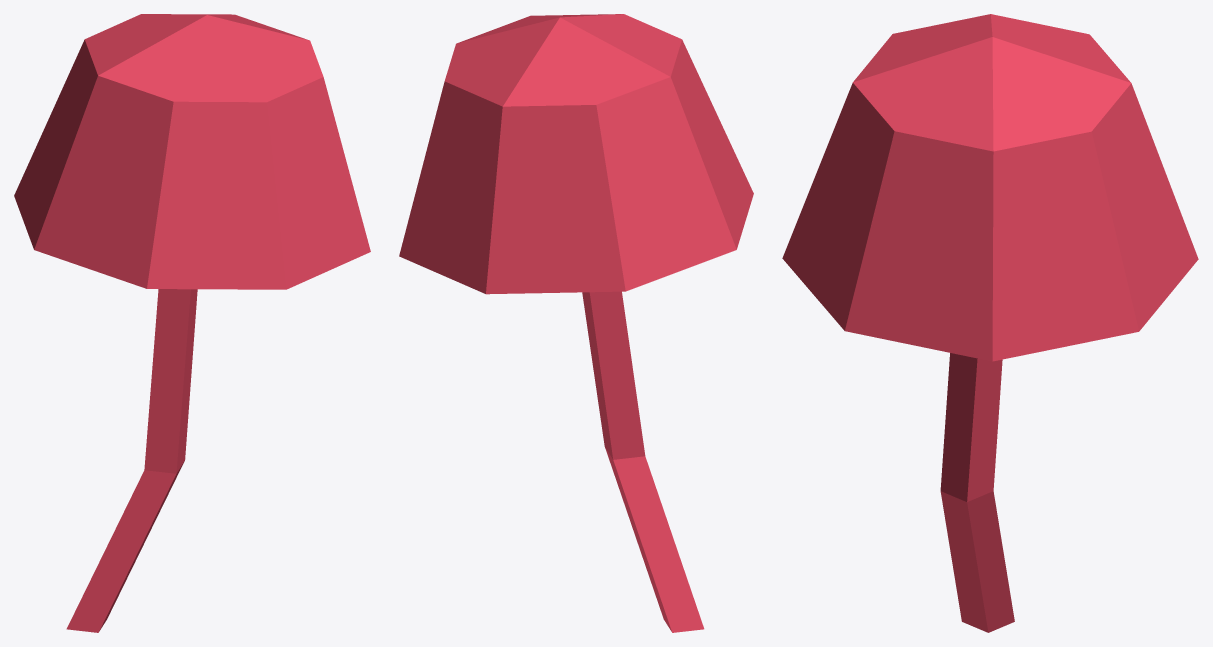
File: Mushroom_c_03.fbx
3 renders of one model, left to right at view 1: azimuth 30°, elevation 25°; view 2: azimuth 150°, elevation 25°; view 3: azimuth 270°, elevation 25°, orthographic. The views are drawn at different scales.
Parts seen in each view (by area): view 1: Mushroom_c_03; view 2: Mushroom_c_03; view 3: Mushroom_c_03.
Part boxes in pixels (x1,y1,x2,y2): Mushroom_c_03: (14,14,370,632); Mushroom_c_03: (399,14,753,632); Mushroom_c_03: (782,14,1198,632).
Bounding box in the file's own units: 13.57 × 23.54 × 13.62.
